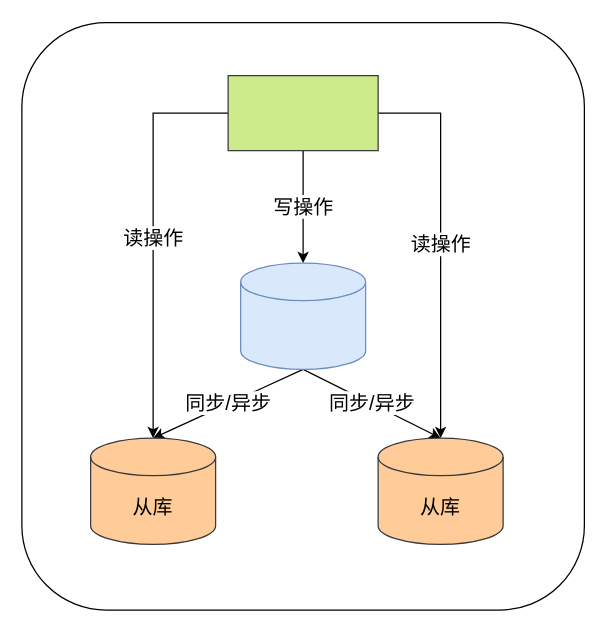
The diagram is 606 pixels wide and 631 high, and some of its shapes have lost their labels. Here are the shapes that lost their labels. From the top down, the centre of each, then its label:
At (x=302, y=112): "应用程序".
At (x=302, y=315): "主库".
